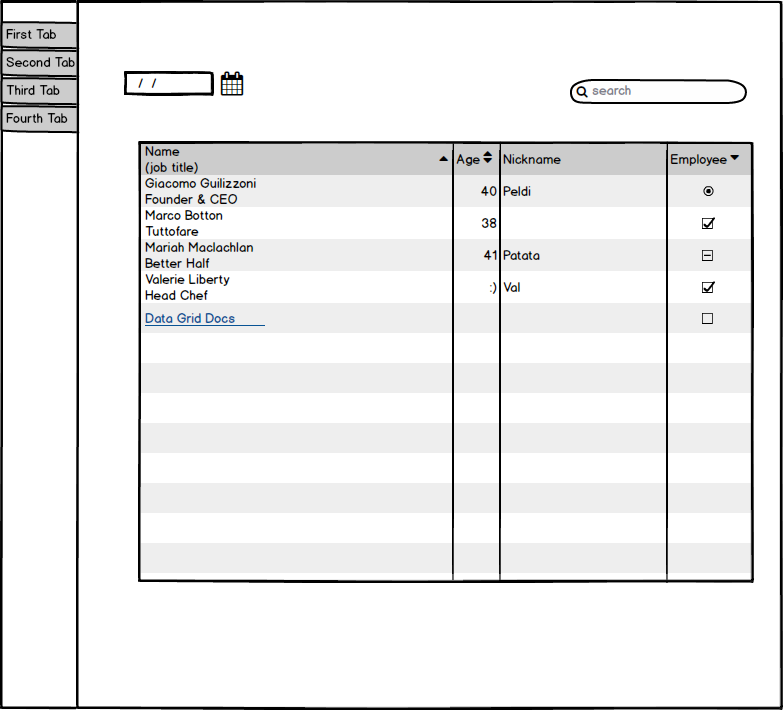date_picker: (117, 66, 252, 101)
search: (567, 71, 751, 110)
sidebar: (1, 17, 85, 146)
table: (132, 134, 765, 589)
